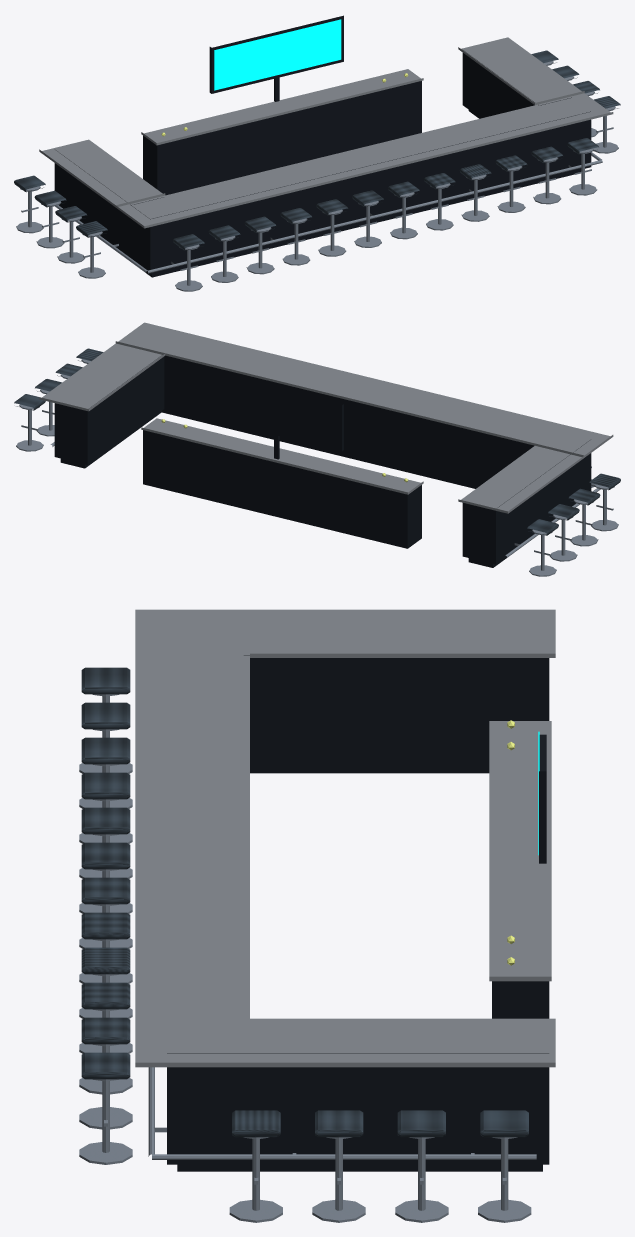
3 renders of one model, top to bottom at view 1: azimuth 30°, elevation 25°; view 2: azimuth 150°, elevation 25°; view 3: azimuth 270°, elevation 25°, orthographic. The views are drawn at different scales.
Visible parts, largest first — view 1: Counter_Body, Counter_Top_Slate, Back_Bar, Stool_Frame, Stool_Cushions, Score_Screen, Back_Bar_Top, Foot_Rail, Score_Screen_Frame, Counter_Plinth; view 2: Counter_Body, Counter_Top_Slate, Back_Bar, Score_Screen_Frame, Back_Bar_Top, Stool_Frame, Stool_Cushions, Counter_Plinth; view 3: Counter_Top_Slate, Counter_Body, Stool_Cushions, Back_Bar_Top, Stool_Frame, Counter_Plinth, Foot_Rail, Back_Bar, Score_Screen_Frame.
Part boxes in pixels (x1,y1,x2,y2): Counter_Body: (54,50,591,274); Counter_Top_Slate: (39,37,613,228); Back_Bar: (143,81,421,195); Stool_Frame: (16,61,618,291); Stool_Cushions: (14,50,620,250); Score_Screen: (214,19,341,90); Back_Bar_Top: (141,69,423,145); Foot_Rail: (55,152,602,273); Score_Screen_Frame: (209,15,343,101); Counter_Plinth: (146,110,581,277); Counter_Body: (54,355,591,564); Counter_Top_Slate: (39,322,613,513); Back_Bar: (143,430,421,548); Score_Screen_Frame: (209,373,343,459); Back_Bar_Top: (141,418,423,494); Stool_Frame: (16,359,618,576); Stool_Cushions: (14,348,620,535); Counter_Plinth: (60,409,506,567); Counter_Top_Slate: (135,609,555,1067); Counter_Body: (167,655,549,1164); Stool_Cushions: (81,667,528,1137); Back_Bar_Top: (489,721,551,981); Stool_Frame: (79,694,531,1222); Counter_Plinth: (177,766,542,1171); Foot_Rail: (148,1067,536,1159); Back_Bar: (492,981,549,1018); Score_Screen_Frame: (539,734,546,863).
Size of what is drawn, in the model's own units: 9.74 by 2.2 by 3.74.
7 materials, 3 textured.
